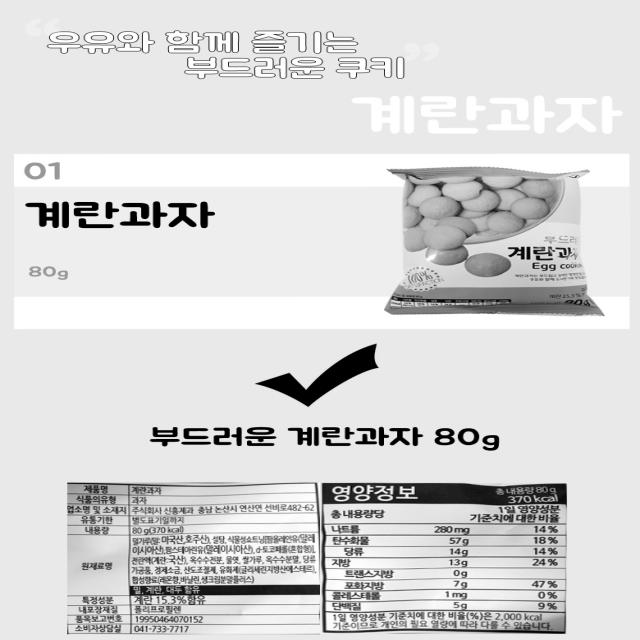Nutrition Label: (310, 473, 586, 640)
